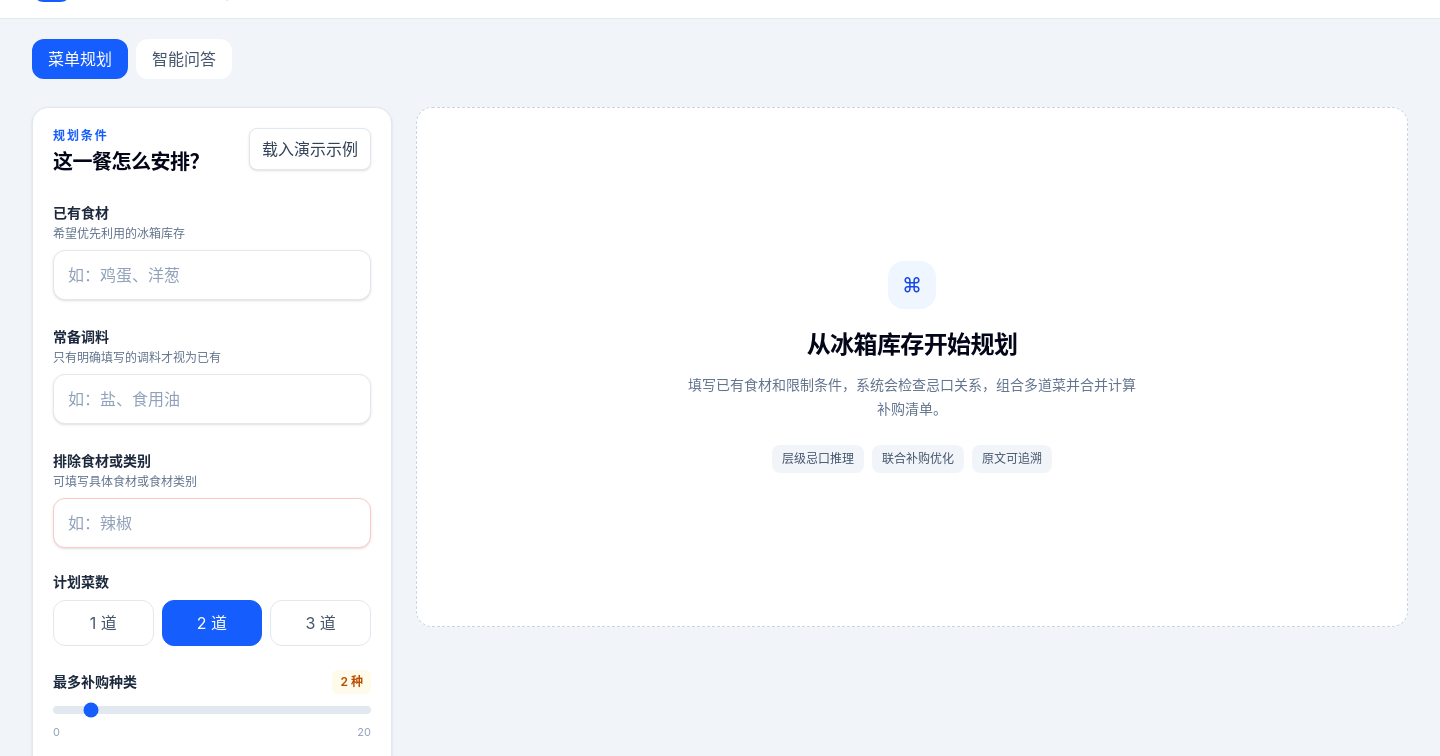
Test: CookKG planner page › answers greetings without showing irrelevant evidence
The image size is (1440, 756).
Click the button "智能问答" at x=184, y=59, box x1=136 y1=39 x2=232 y2=79
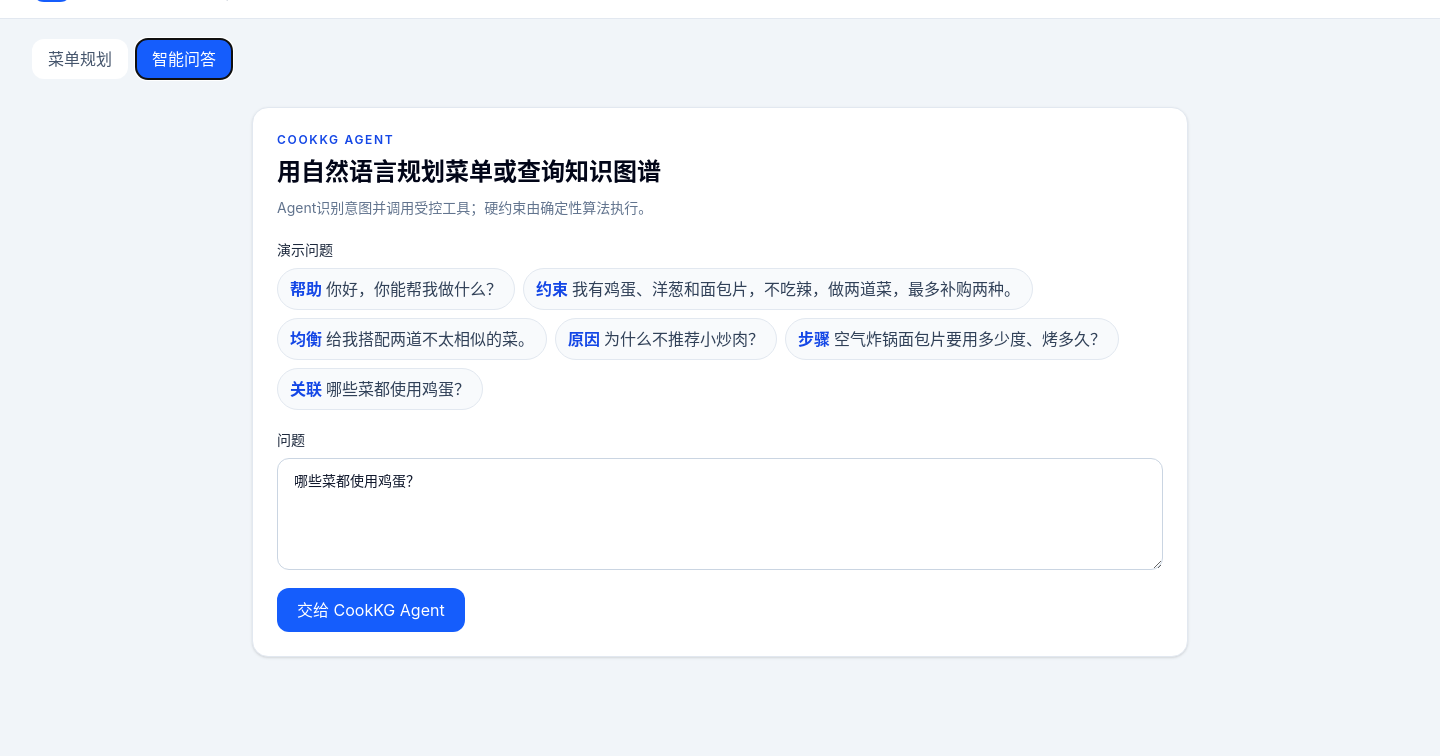
Click the 3rd button at x=396, y=289, box x1=277 y1=268 x2=515 y2=310
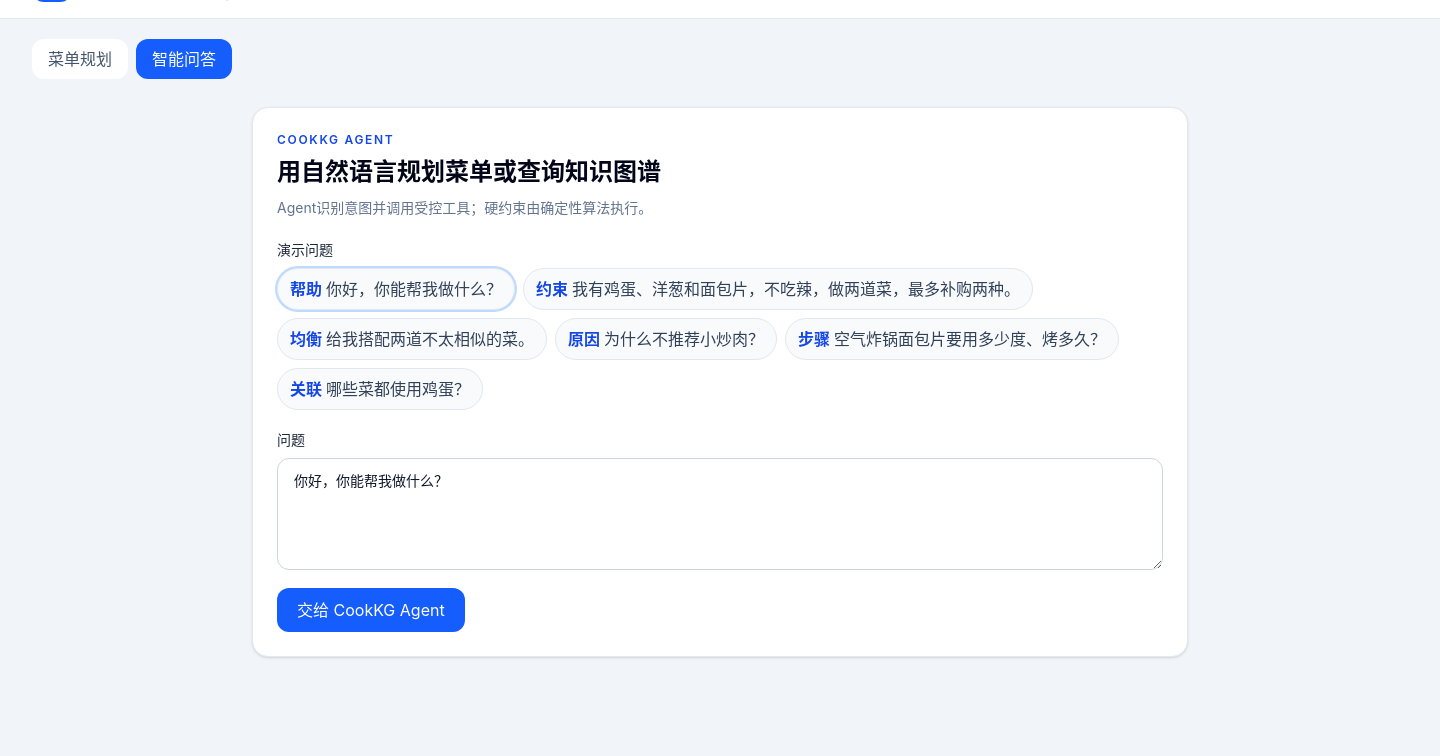
Click the button "交给 CookKG Agent" at x=371, y=610, box x1=277 y1=588 x2=465 y2=632
(page scrolled)
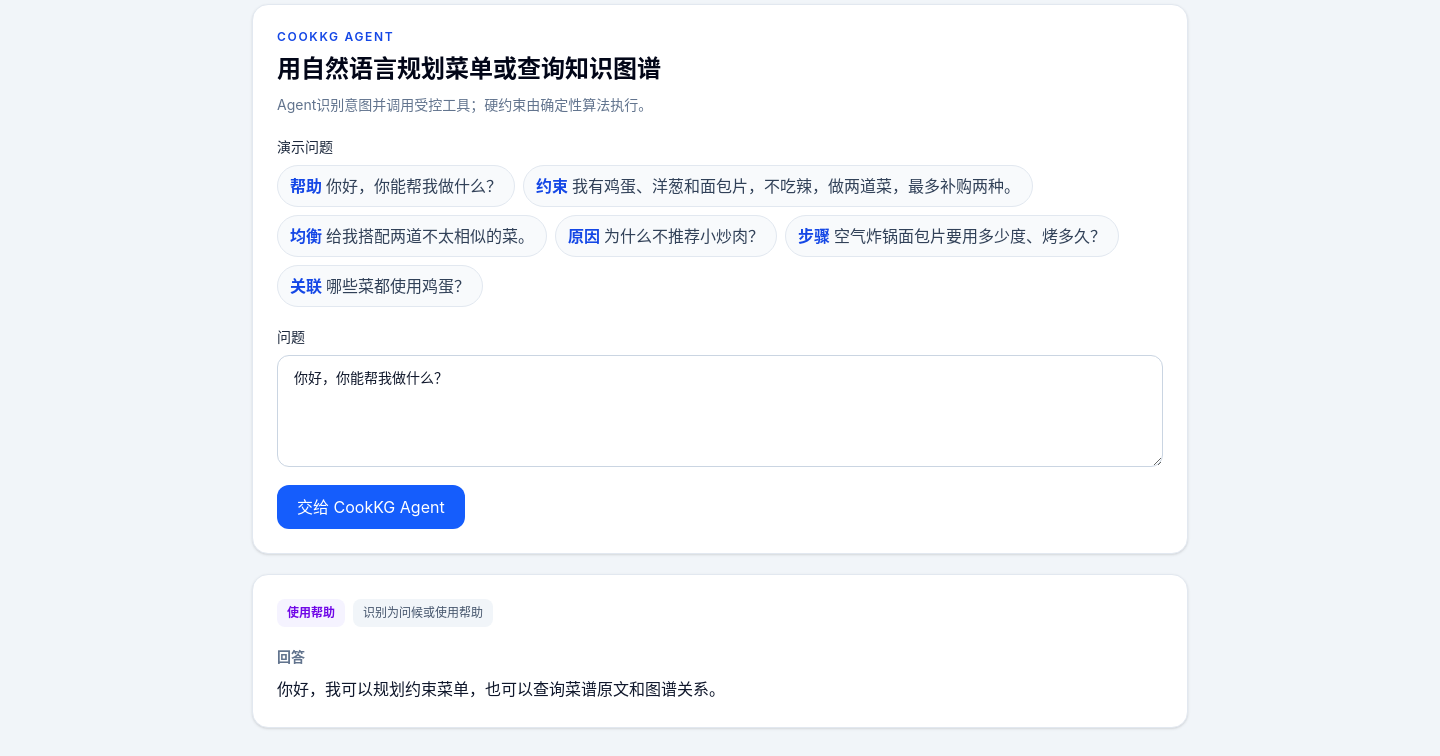
Expected: the text "使用帮助" is shown, x1=277 y1=599 x2=345 y2=627
Expected: the text "你好，我可以规划约束菜单，也可以查询菜谱原文和图谱关系。" is shown, x1=277 y1=679 x2=725 y2=699
